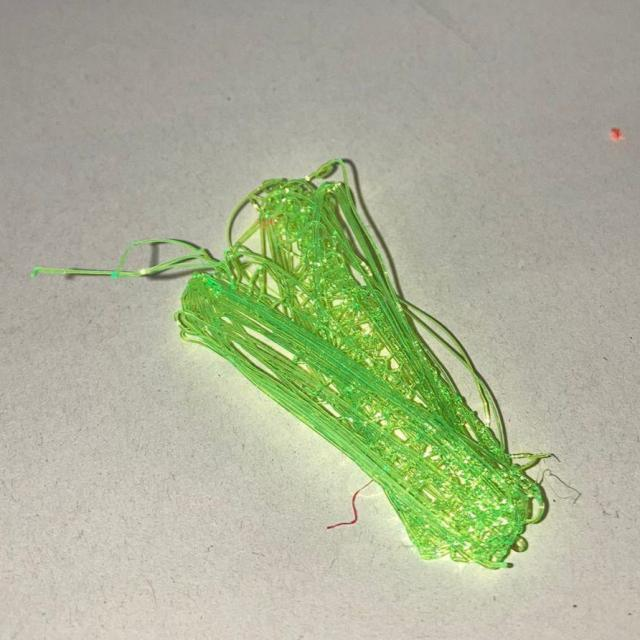Spaghetti: (158, 128, 576, 591)
